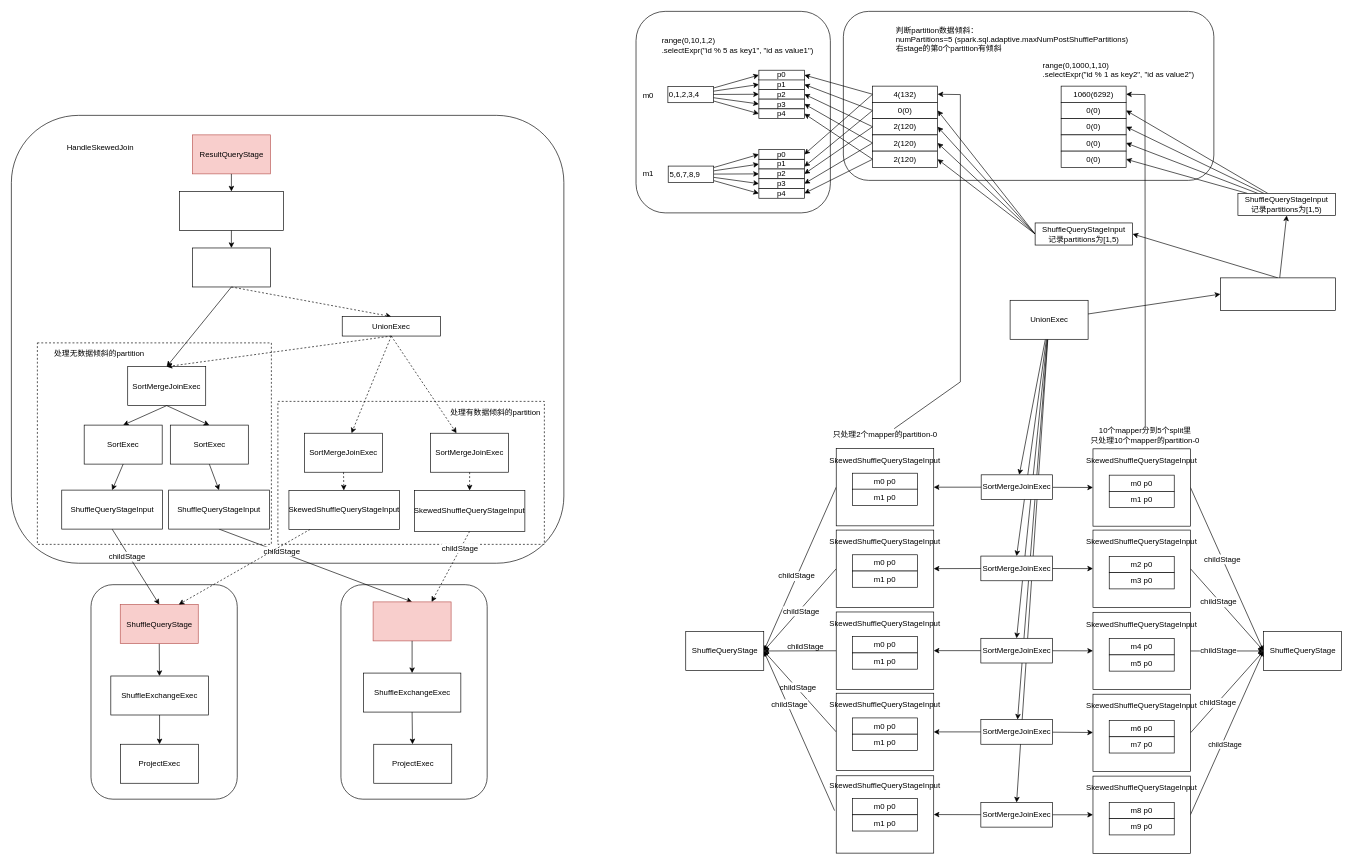
Some shapes in this 1353 by 865 pixel diagram are drawn without their labels. The box of each missing label's shape, as (x1, y1, x2, y2) in pixels:
DeserializeToObjectExec: (179, 191, 283, 230)
Project: (192, 247, 270, 287)
Shuffle QueryStage: (372, 601, 451, 641)
原SortMergeJoinExec （其ShuffleQueryStageInput里记录了skewedPartitions为{0}): (1220, 277, 1335, 310)
